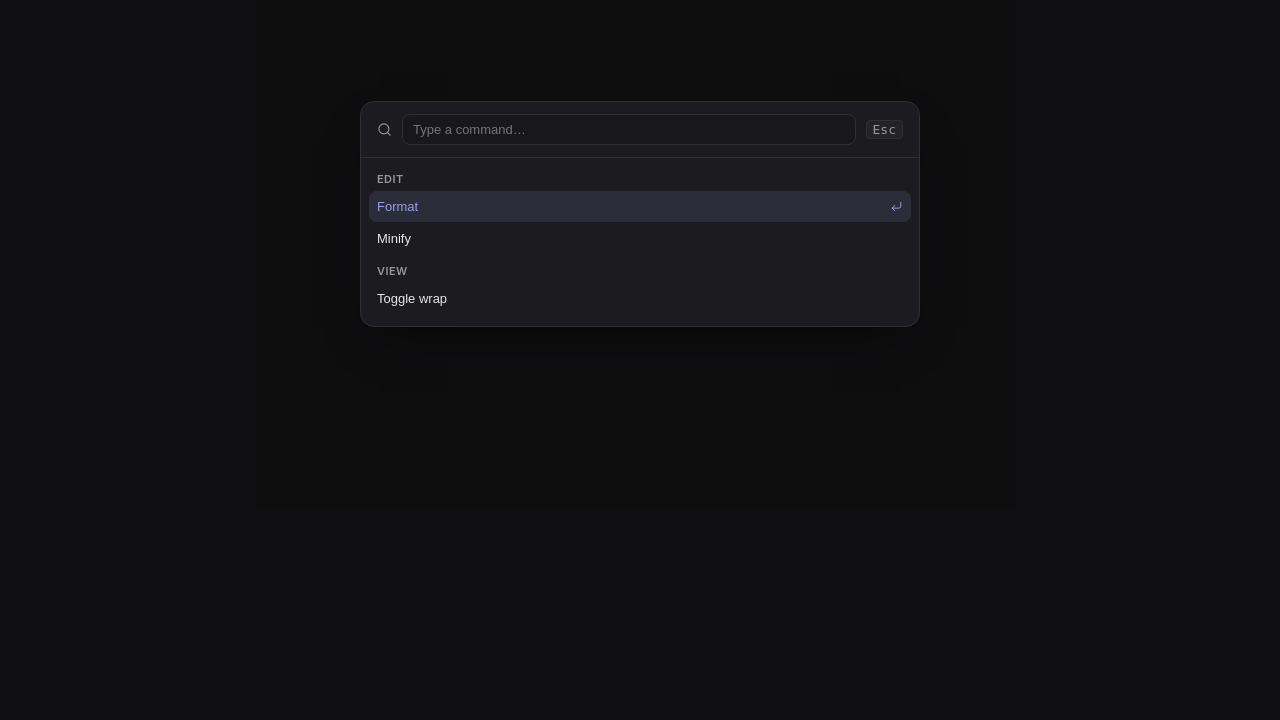
CommandBar › filters commands by label as you type
Step 1. Type "min" into the field with placeholder "Type a command…" → (629, 129), box top-left (402, 114), bottom-right (856, 145)
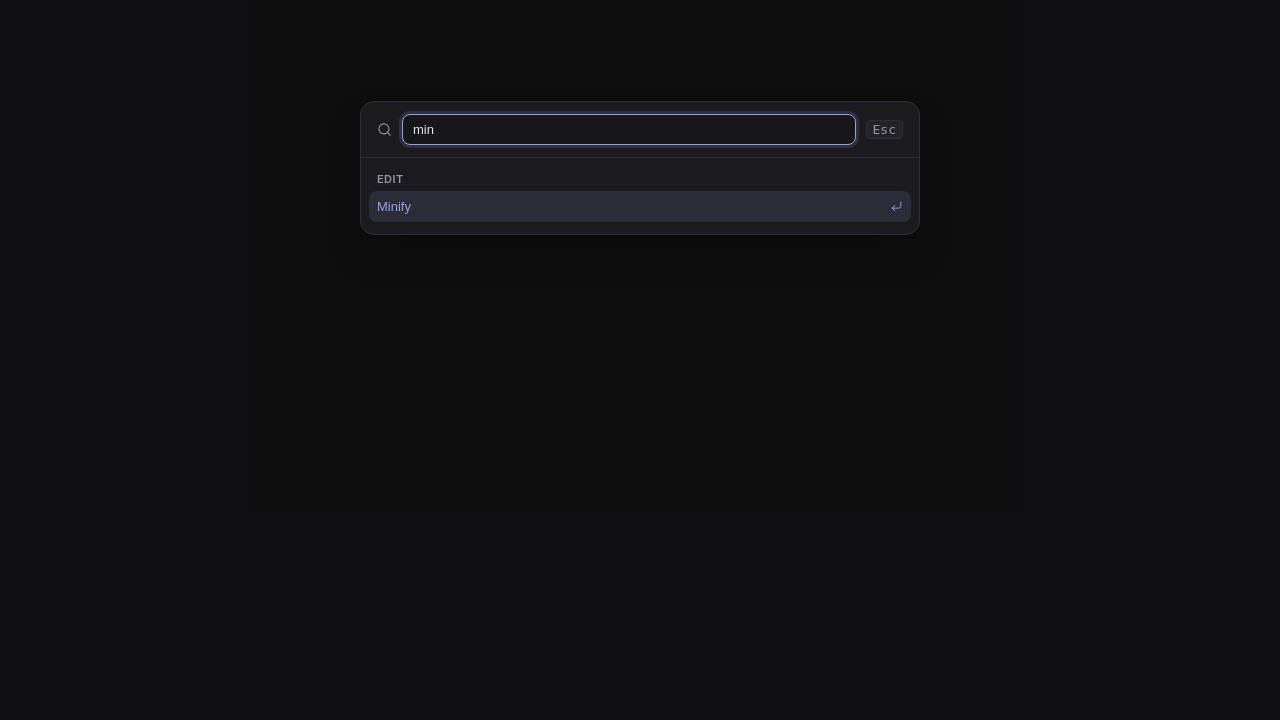
Check: the button "Minify" is shown, box top-left (369, 191), bottom-right (911, 222)
Check: the button "Format" is gone
